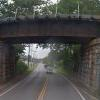Bridge: (4, 9, 95, 67)
